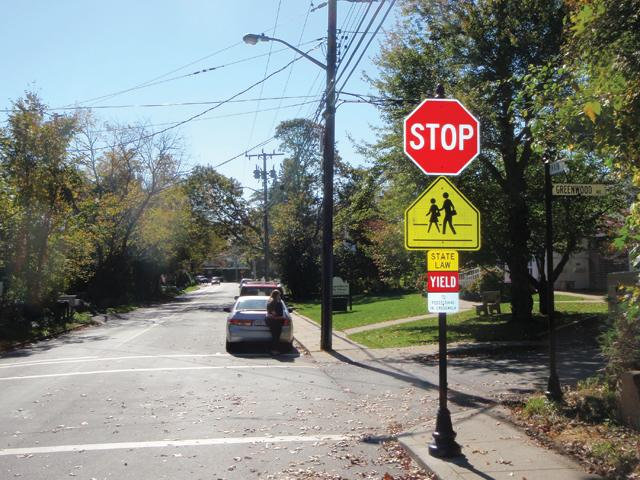Pole: (544, 194, 558, 404), (435, 313, 453, 454)
Sign: (404, 100, 481, 176)
